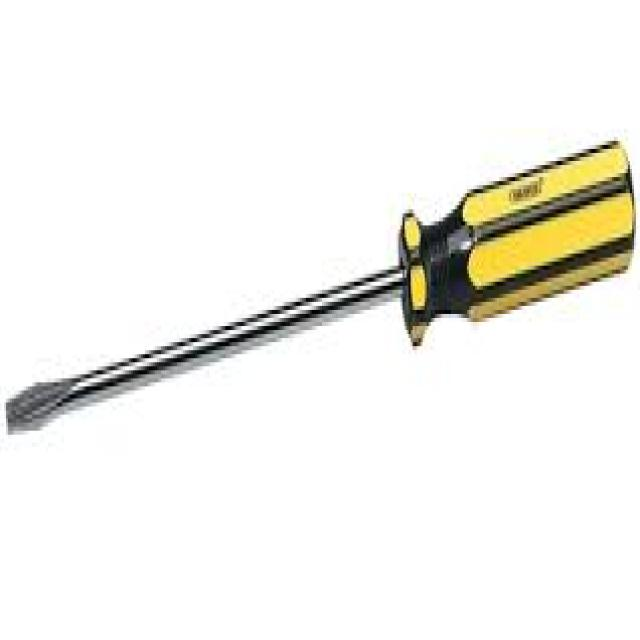Screwdriver: (6, 143, 635, 431)
